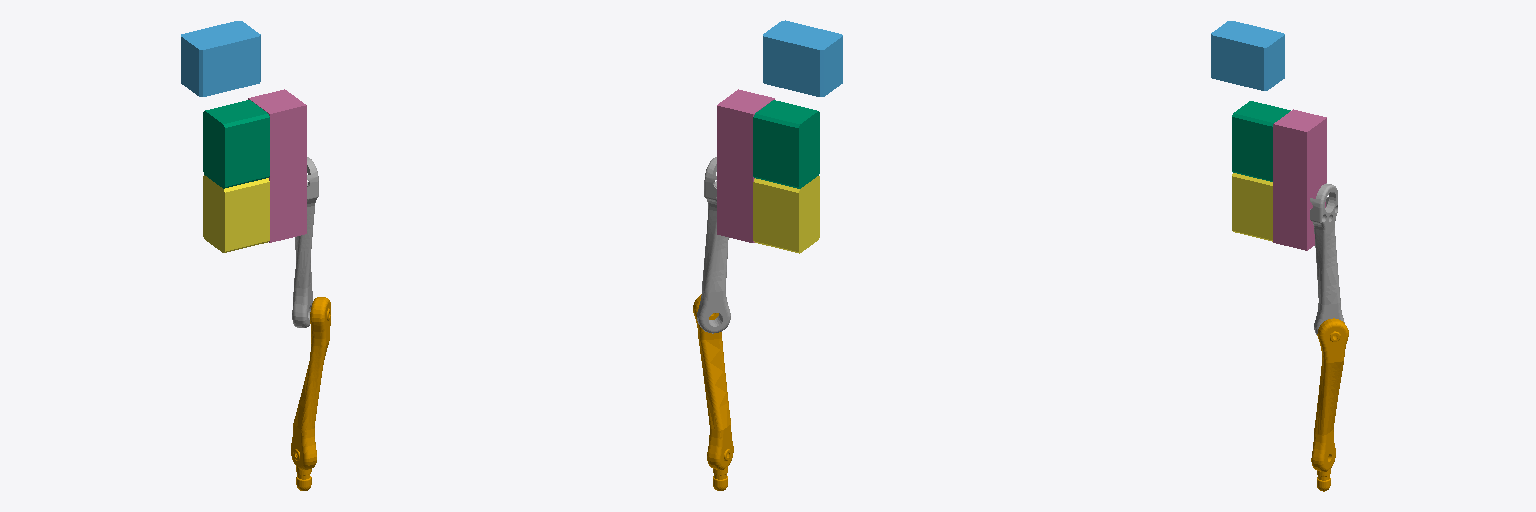
The robot description file, URDF, robot "robot":
<?xml version="1.0" encoding="utf-8"?>
<!-- =================================================================================== -->
<!-- |    This document was autogenerated by xacro from finger.urdf.xacro              | -->
<!-- |    EDITING THIS FILE BY HAND IS NOT RECOMMENDED                                 | -->
<!-- =================================================================================== -->
<robot>
  <link name="dummy">
    <inertial>
      <mass value="0"/>
      <inertia ixx="0.0" ixy="0.0" ixz="0.0" iyy="0.0" iyz="0.0" izz="0.0"/>
    </inertial>
  </link>
  <link name="0-xm430_0">
    <inertial>
      <origin rpy="0 0 0" xyz="-4.0773796e-3 -1.5304911e-2 -1.6871895e-2"/>
      <mass value="0.082"/>
      <inertia ixx="2.3729564e-5" ixy="-1.3079758e-7" ixz="-8.1403365e-8" iyy="1.3112295e-5" iyz="-1.9659314e-6" izz="2.0942871e-5"/>
    </inertial>
    <visual>
      <origin rpy="0.0 0.0 0.0" xyz="0.0 0.0 0.0"/>
      <geometry>
        <mesh filename="./mesh/xm430.obj" scale="0.001 0.001 0.001"/>
      </geometry>
    </visual>
    <collision>
      <origin rpy="0.0 0.0 0.0" xyz="0.0 0.0 0.0"/>
      <geometry>
        <mesh filename="./mesh/xm430.obj" scale="0.001 0.001 0.001"/>
      </geometry>
    </collision>
  </link>
  <link name="0-xm430_1">
    <inertial>
      <origin rpy="0 0 0" xyz="-4.0773796e-3 -1.5304911e-2 -1.6871895e-2"/>
      <mass value="0.082"/>
      <inertia ixx="2.3729564e-5" ixy="-1.3079758e-7" ixz="-8.1403365e-8" iyy="1.3112295e-5" iyz="-1.9659314e-6" izz="2.0942871e-5"/>
    </inertial>
    <visual>
      <origin rpy="0.0 0.0 0.0" xyz="0.0 0.0 0.0"/>
      <geometry>
        <mesh filename="./mesh/xm430.obj" scale="0.001 0.001 0.001"/>
      </geometry>
    </visual>
    <collision>
      <origin rpy="0.0 0.0 0.0" xyz="0.0 0.0 0.0"/>
      <geometry>
        <mesh filename="./mesh/xm430.obj" scale="0.001 0.001 0.001"/>
      </geometry>
    </collision>
  </link>
  <link name="0-xm430_2">
    <inertial>
      <origin rpy="0 0 0" xyz="-4.0773796e-3 -1.5304911e-2 -1.6871895e-2"/>
      <mass value="0.082"/>
      <inertia ixx="2.3729564e-5" ixy="-1.3079758e-7" ixz="-8.1403365e-8" iyy="1.3112295e-5" iyz="-1.9659314e-6" izz="2.0942871e-5"/>
    </inertial>
    <visual>
      <origin rpy="0.0 0.0 0.0" xyz="0.0 0.0 0.0"/>
      <geometry>
        <mesh filename="./mesh/xm430.obj" scale="0.001 0.001 0.001"/>
      </geometry>
    </visual>
    <collision>
      <origin rpy="0.0 0.0 0.0" xyz="0.0 0.0 0.0"/>
      <geometry>
        <mesh filename="./mesh/xm430.obj" scale="0.001 0.001 0.001"/>
      </geometry>
    </collision>
  </link>
  <link name="0-base_motor_frame">
    <inertial>
      <origin rpy="0 0 0" xyz="6.48e-08 -0.0015864406 0.0250889877"/>
      <mass value="0.0768049156"/>
      <inertia ixx="5.65659e-05" ixy="-0.0" ixz="1e-10" iyy="5.30145e-05" iyz="1.1663e-06" izz="3.40217e-05"/>
    </inertial>
    <visual>
      <origin rpy="0 0 0" xyz="0 0 0"/>
      <geometry>
        <mesh filename="./mesh/base_motor_frame.obj" scale="0.001 0.001 0.001"/>
      </geometry>
    </visual>
    <collision>
      <origin rpy="0 0 0" xyz="0 0 0"/>
      <geometry>
        <mesh filename="./mesh/base_motor_frame.obj" scale="0.001 0.001 0.001"/>
      </geometry>
    </collision>
  </link>
  <link name="0-dual_servo_shell">
    <inertial>
      <origin rpy="0 0 0" xyz="0.0005322566 -0.0003161331 0.0506920676"/>
      <mass value="0.0258069457"/>
      <inertia ixx="4.11451e-05" ixy="7.82e-08" ixz="-7.721e-07" iyy="4.42386e-05" iyz="2.774e-07" izz="4.8477e-06"/>
    </inertial>
    <visual>
      <origin rpy="0.0 0.0 0.0" xyz="0.0 0.0 0.0"/>
      <geometry>
        <mesh filename="./mesh/dual_servo_shell.stl" scale="0.001 0.001 0.001"/>
      </geometry>
    </visual>
    <collision>
      <origin rpy="0.0 0.0 0.0" xyz="0.0 0.0 0.0"/>
      <geometry>
        <mesh filename="./mesh/dual_servo_shell.stl" scale="0.001 0.001 0.001"/>
      </geometry>
    </collision>
  </link>
  <link name="0-dual_servo_transmission">
    <inertial>
      <origin rpy="0 0 0" xyz="-1.41e-08 0.0095354556 0.0141401617"/>
      <mass value="0.0576887165"/>
      <inertia ixx="2.78223e-05" ixy="5.7e-09" ixz="-0.0" iyy="1.35978e-05" iyz="4.5419e-06" izz="2.50167e-05"/>
    </inertial>
    <visual>
      <origin rpy="0.0 0.0 0.0" xyz="0.0 0.0 0.0"/>
      <geometry>
        <mesh filename="./mesh/dual_servo_transmission_simplified.obj" scale="0.001 0.001 0.001"/>
      </geometry>
    </visual>
    <collision>
      <origin rpy="0.0 0.0 0.0" xyz="0.0 0.0 0.0"/>
      <geometry>
        <mesh filename="./mesh/dual_servo_transmission_simplified.obj" scale="0.001 0.001 0.001"/>
      </geometry>
    </collision>
  </link>
  <link name="0-finger1">
    <inertial>
      <origin rpy="0 0 0" xyz=" -0.0026344221 -0.0673645556 -0.0033892017"/>
      <mass value="0.0273686016"/>
      <inertia ixx="3.82526e-05" ixy="-1.6373e-06" ixz="-1.96e-07" iyy="1.4086e-06" iyz="4.307e-07" izz="3.86145e-05"/>
    </inertial>
    <visual>
      <origin rpy="0.0 0.0 0.0" xyz="0.0 0.0 0.0"/>
      <geometry>
        <mesh filename="./mesh/finger1.obj" scale="0.001 0.001 0.001"/>
      </geometry>
    </visual>
    <collision>
      <origin rpy="0.0 0.0 0.0" xyz="0.0 0.0 0.0"/>
      <geometry>
        <mesh filename="./mesh/finger1.obj" scale="0.001 0.001 0.001"/>
      </geometry>
    </collision>
  </link>
  <link name="0-finger2">
    <inertial>
      <origin rpy="0 0 0" xyz=" -0.0025634596 -0.0642987636 0.003878593"/>
      <mass value="0.0282885857"/>
      <inertia ixx="4.51291e-05" ixy="-1.8472e-06" ixz="1.613e-07" iyy="1.3194e-06" iyz="-1.3204e-06" izz="4.53013e-05"/>
    </inertial>
    <visual>
      <origin rpy="0.0 0.0 0.0" xyz="0.0 0.0 0.0"/>
      <geometry>
        <mesh filename="./mesh/finger2.obj" scale="0.001 0.001 0.001"/>
      </geometry>
    </visual>
    <collision>
      <origin rpy="0.0 0.0 0.0" xyz="0.0 0.0 0.0"/>
      <geometry>
        <mesh filename="./mesh/finger2.obj" scale="0.001 0.001 0.001"/>
      </geometry>
    </collision>
  </link>
  <!--Create joints to connect the parts-->
  <!--Fix the module to module parent link-->
  <joint name="0-module_to_parent" type="fixed">
    <parent link="dummy"/>
    <child link="0-base_motor_frame"/>
    <origin rpy="3.14159265 0 1.570796325" xyz="0 0 0"/>
  </joint>
  <!--Fix the parts which are not supposed to move-->
  <joint name="0-fix_xm430_0" type="fixed">
    <parent link="0-base_motor_frame"/>
    <child link="0-xm430_0"/>
    <origin rpy="0 0 0" xyz="0 0 0.054"/>
  </joint>
  <joint name="0-fix_xm430_1" type="fixed">
    <parent link="0-dual_servo_shell"/>
    <child link="0-xm430_1"/>
    <origin rpy="-1.570796325 0 0" xyz="0 0.019 0.0334"/>
  </joint>
  <joint name="0-fix_xm430_2" type="fixed">
    <parent link="0-xm430_1"/>
    <child link="0-xm430_2"/>
    <origin rpy="0 0 0" xyz="0 -0.0465 0"/>
  </joint>
  <joint name="0-fix_transmission" type="fixed">
    <parent link="0-xm430_2"/>
    <child link="0-dual_servo_transmission"/>
    <origin rpy="0 0 0" xyz="0 0 0"/>
  </joint>
  <!--DoFs, joints corresponding to the degrees of actuation-->
  <joint name="0-dof1" type="revolute">
    <parent link="0-xm430_0"/>
    <child link="0-dual_servo_shell"/>
    <axis xyz="0 0 -1"/>
    <limit effort="1000" lower="-3.14159265" upper="3.14159265" velocity="1000"/>
    <origin rpy="0 0 0" xyz="0 0 0"/>
  </joint>
  <joint name="0-dof2" type="revolute">
    <parent link="0-xm430_2"/>
    <child link="0-finger1"/>
    <axis xyz="0 0 -1"/>
    <limit effort="1000" lower="-1.570796325" upper="1.570796325" velocity="1000"/>
    <origin rpy="0 0 0" xyz="0 0 0.0368"/>
  </joint>
  <joint name="0-dof3" type="revolute">
    <parent link="0-finger1"/>
    <child link="0-finger2"/>
    <axis xyz="0 0 -1"/>
    <limit effort="1000" lower="-2.3561944875" upper="2.3561944875" velocity="1000"/>
    <origin rpy="0 -0.7853981625 0" xyz="-0.0014142 -0.1 0.0014142"/>
  </joint>
  <!--frames that may be helpful-->
  <link name="0-fingertip_frame">
    <geometry>
      <origin rpy="0 0 0" xyz="0 0 0"/>
    </geometry>
  </link>
  <joint name="0-fingertip_frame_fix" type="fixed">
    <parent link="0-finger2"/>
    <child link="0-fingertip_frame"/>
    <origin rpy="0 0 0" xyz="-0.004242 -0.12 -0.004242"/>
  </joint>
</robot>

--- What the picture shows (computed from the rendered views, not written in the file) ---
The picture shows the robot from 3 angles, left to right: view 1: azimuth 30°, elevation 25°; view 2: azimuth 150°, elevation 25°; view 3: azimuth 330°, elevation 25°; orthographic projection.
Robot: robot — 10 links, 9 joints (3 revolute, 6 fixed); root link dummy; default pose: every joint at zero.
Visible links, largest first — view 1: 0-dual_servo_transmission, 0-xm430_1, 0-xm430_0, 0-xm430_2, 0-finger2, 0-finger1; view 2: 0-dual_servo_transmission, 0-xm430_1, 0-xm430_0, 0-xm430_2, 0-finger2, 0-finger1; view 3: 0-dual_servo_transmission, 0-xm430_0, 0-finger2, 0-xm430_1, 0-finger1, 0-xm430_2.
Boxes of the visible links, x1,y1,x2,y2 form: 0-dual_servo_transmission: [248, 89, 306, 242]; 0-xm430_1: [203, 100, 269, 188]; 0-xm430_0: [181, 21, 260, 96]; 0-xm430_2: [203, 175, 269, 252]; 0-finger2: [291, 297, 330, 490]; 0-finger1: [292, 157, 318, 327]; 0-dual_servo_transmission: [717, 89, 774, 242]; 0-xm430_1: [753, 100, 819, 188]; 0-xm430_0: [763, 20, 842, 96]; 0-xm430_2: [753, 176, 819, 253]; 0-finger2: [693, 294, 733, 490]; 0-finger1: [697, 157, 730, 333]; 0-dual_servo_transmission: [1273, 109, 1326, 250]; 0-xm430_0: [1211, 21, 1284, 90]; 0-finger2: [1311, 318, 1348, 491]; 0-xm430_1: [1232, 101, 1290, 181]; 0-finger1: [1310, 183, 1344, 334]; 0-xm430_2: [1232, 173, 1272, 241].
Bounding box of the posed robot: 0.106 × 0.0293 × 0.3429 m (x, y, z).
6 mesh visuals loaded from 6 distinct referenced files (4 OBJ); not drawn: 2 (reference not matched to a file when rendering).
